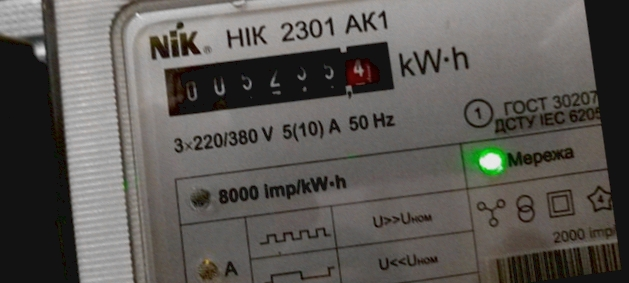0: (181, 74, 201, 102), (210, 68, 227, 95)
2: (264, 60, 281, 86)
3: (292, 54, 309, 80)
4: (349, 50, 367, 77)
5: (318, 51, 337, 80), (236, 63, 255, 91)
screen: (152, 25, 407, 127)
